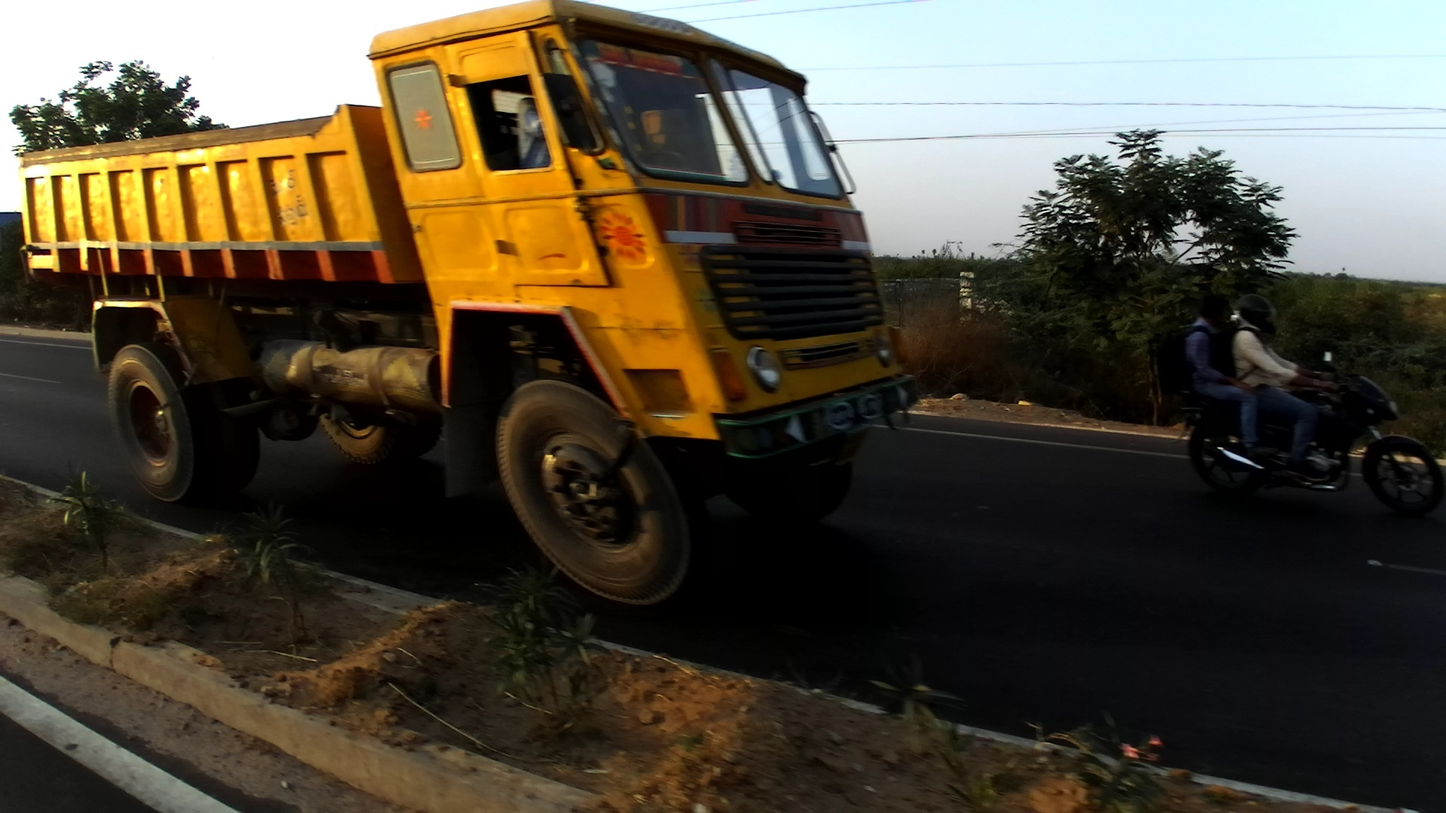motorcycle: (1179, 346, 1443, 517)
rider: (1229, 294, 1340, 475), (1179, 297, 1274, 460)
truck: (22, 0, 915, 608)
